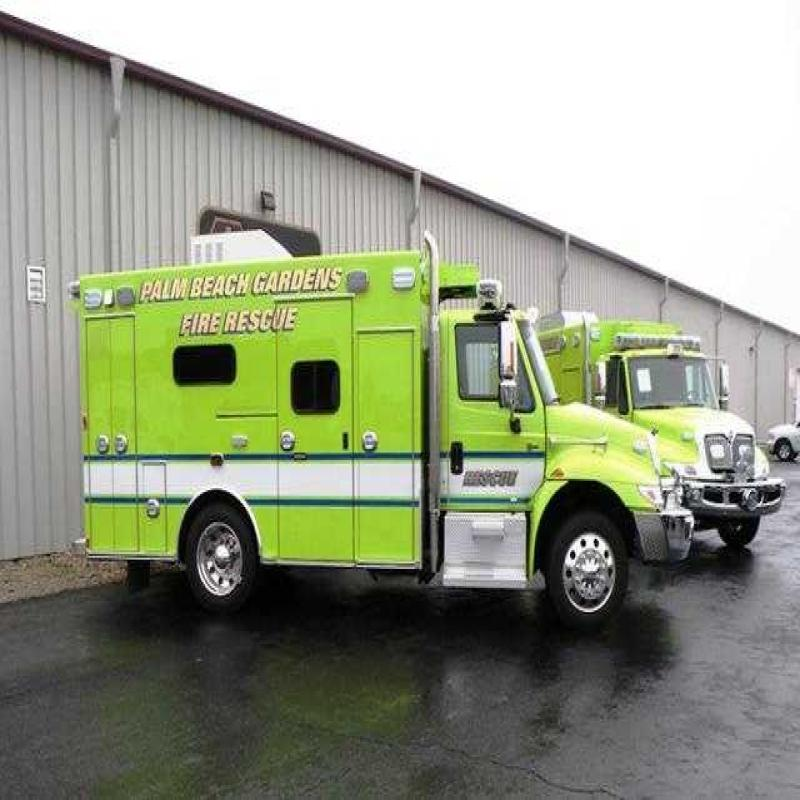AmbulanceSiren: (340, 263, 417, 303), (83, 280, 152, 312)
